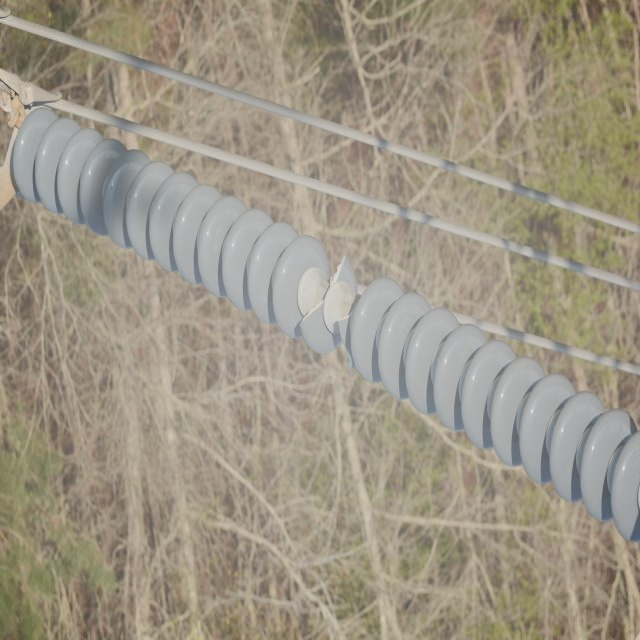broken: (297, 252, 348, 327), (336, 296, 358, 380)
insulator: (12, 112, 637, 535)
